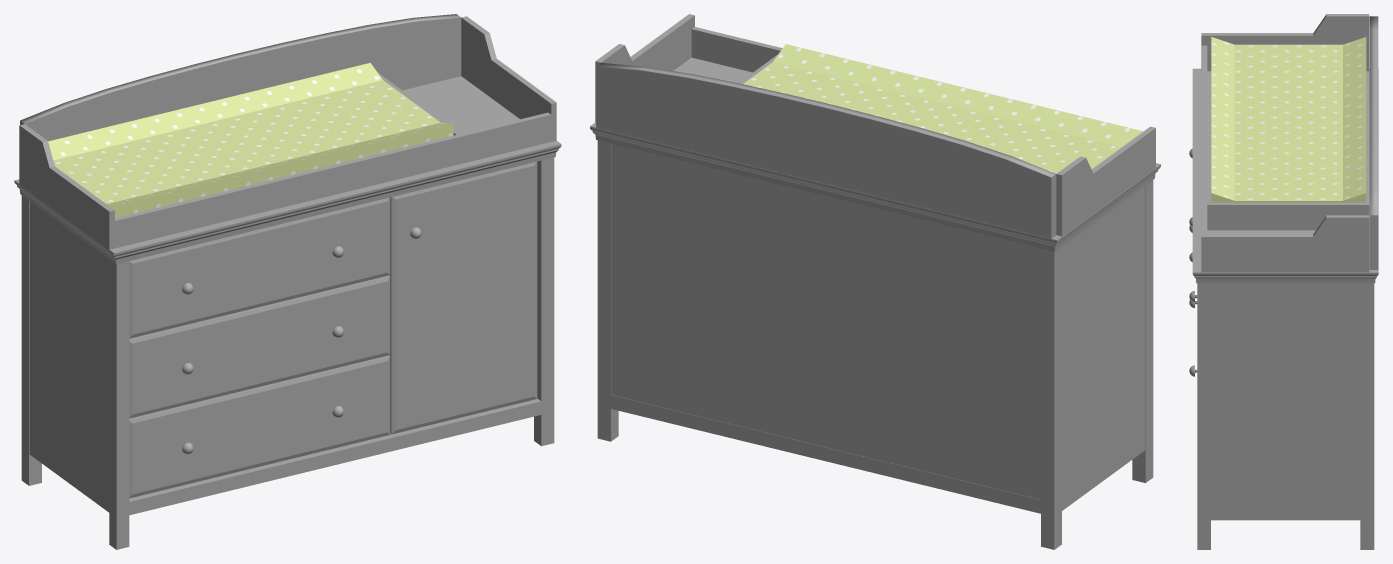
File: changing-table.obj
3 renders of one model, left to right at view 1: azimuth 30°, elevation 25°; view 2: azimuth 150°, elevation 25°; view 3: azimuth 270°, elevation 25°, orthographic. The views are drawn at different scales.
Visible parts, largest first — view 1: Cube.001, Cube.002_Cube.011; view 2: Cube.001, Cube.002_Cube.011; view 3: Cube.001, Cube.002_Cube.011.
Part boxes in pixels (x1,y1,x2,y2): Cube.001: [14, 14, 561, 549]; Cube.002_Cube.011: [48, 63, 453, 217]; Cube.001: [590, 14, 1160, 549]; Cube.002_Cube.011: [743, 44, 1143, 173]; Cube.001: [1189, 14, 1378, 549]; Cube.002_Cube.011: [1211, 37, 1366, 202].
Bounding box in the file's own units: 123 × 97.53 × 48.16.
Materials: 2 (1 with a texture image).
